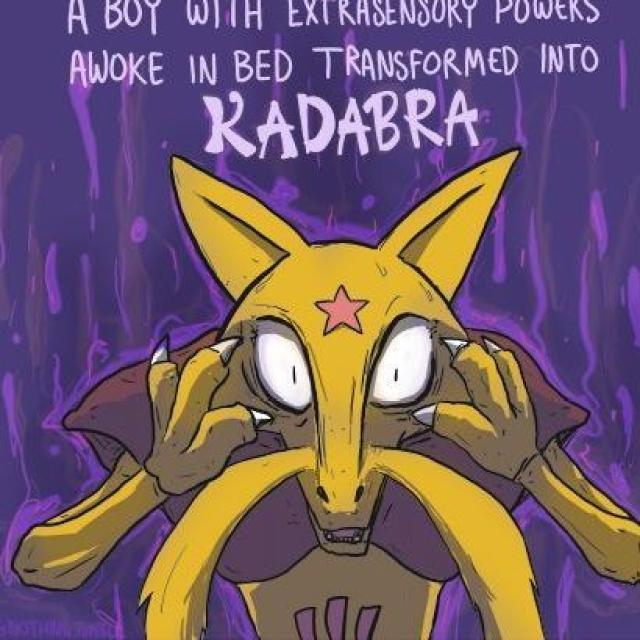Kadabra: (36, 143, 640, 640)
